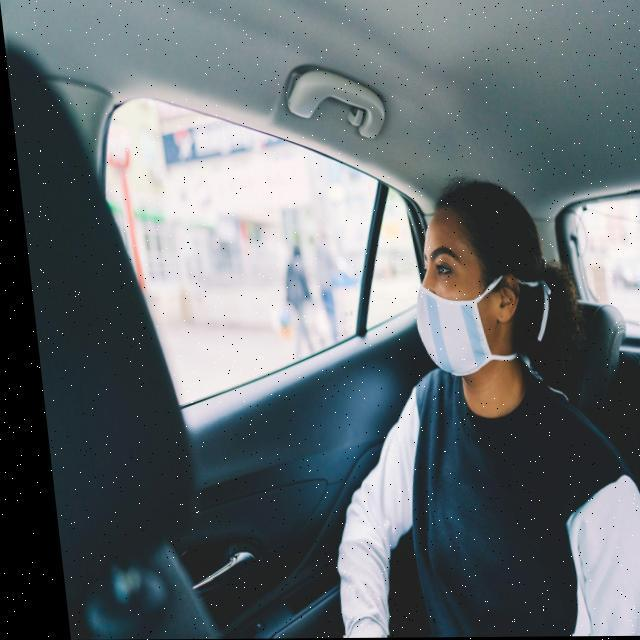noSeatbelt: (354, 363, 636, 638)
